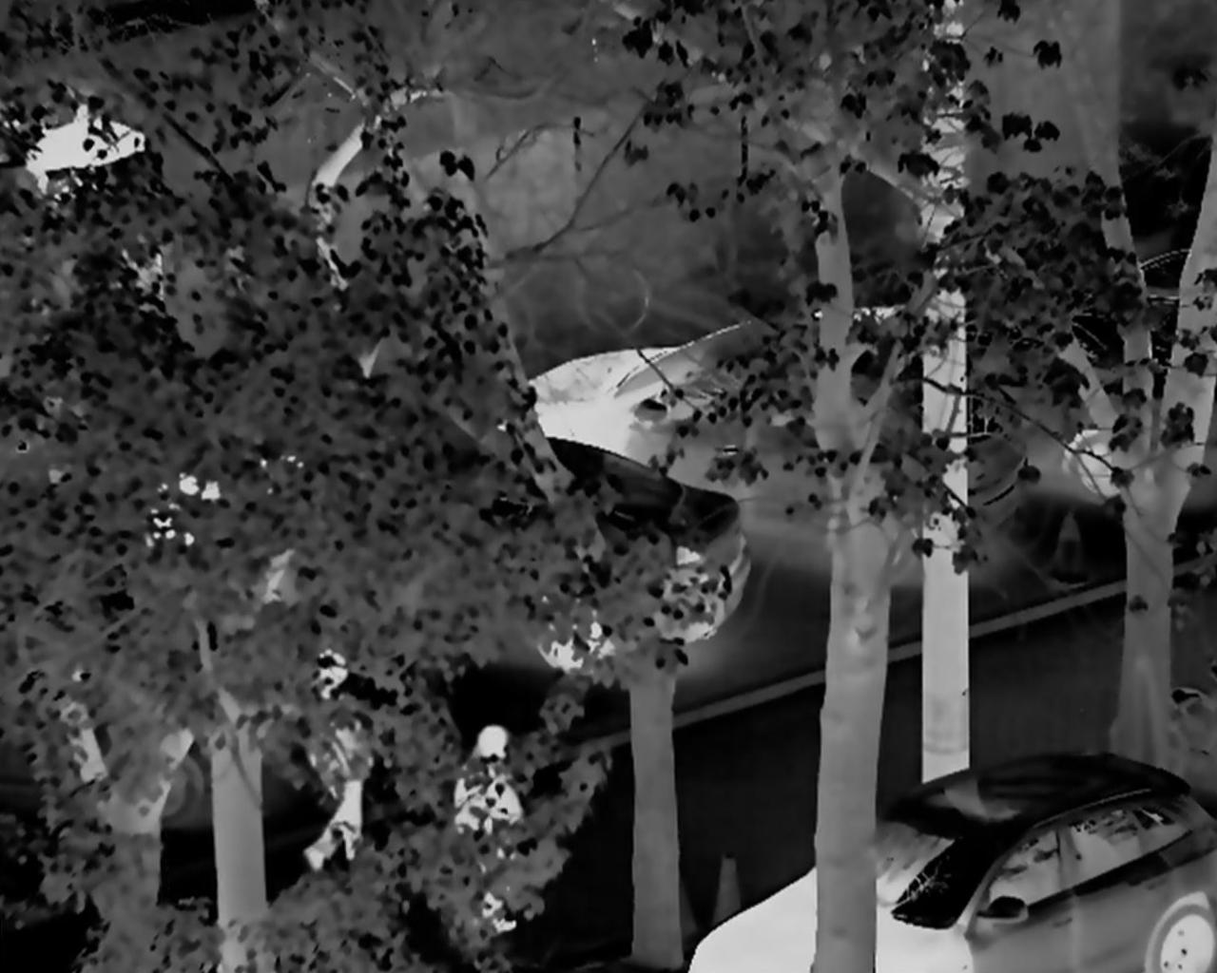person: (287, 639, 386, 880), (448, 712, 540, 930)
